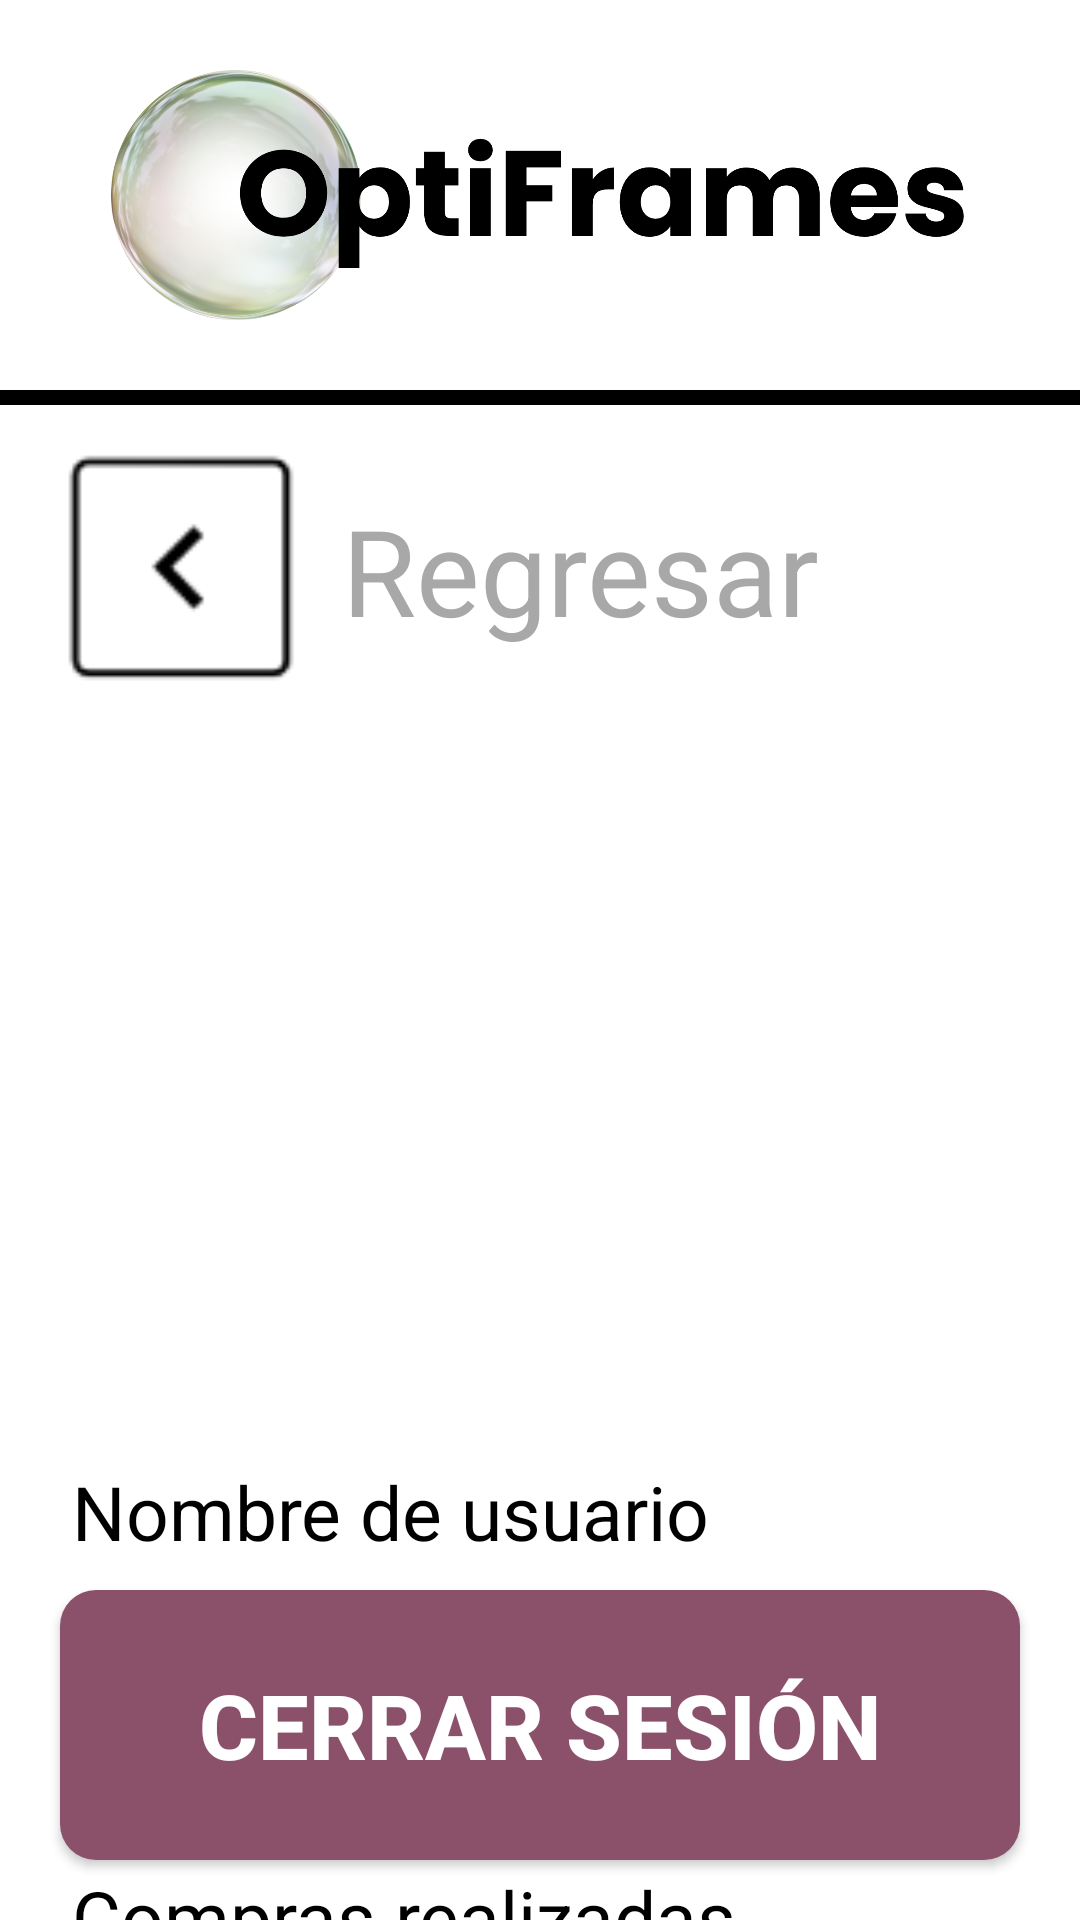

Named icons in this screenshot (1080 × 1920) and their bounding boxes, (x1=x1, y1=y1, x2=x2, y2=y2):
Botón de retroceder: (x1=69, y1=456, x2=293, y2=679)
